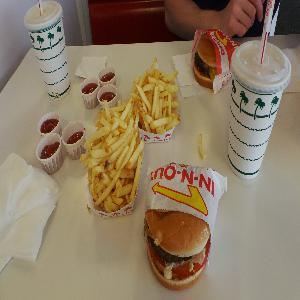cheeseburger_475cal: (143, 163, 227, 291)
fries_350cal: (91, 102, 142, 215), (131, 61, 185, 134)
